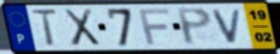7: (106, 7, 135, 48)
F: (137, 8, 172, 46)
P: (174, 7, 214, 47)
T: (29, 8, 60, 48)
V: (210, 8, 244, 45)
X: (61, 8, 102, 48)
